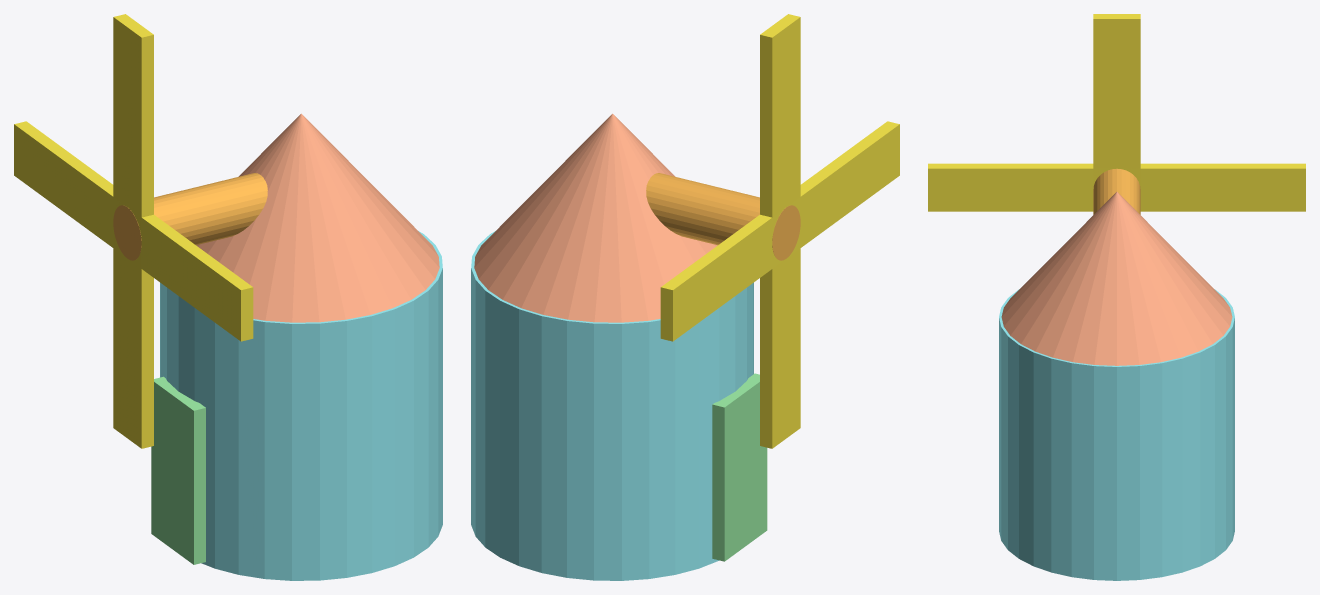
File: windmill.gltf
3 views of the same model, side by side, from view 1: azimuth 30°, elevation 25°; view 2: azimuth 150°, elevation 25°; view 3: azimuth 270°, elevation 25° (orthographic). The views are drawn at different scales.
Visible parts, largest first — view 1: 柱体, 锥体, 立方体.001, 立方体.002, 立方体, 柱体.001; view 2: 柱体, 锥体, 立方体.001, 立方体.002, 立方体, 柱体.001; view 3: 柱体, 锥体, 立方体.002, 立方体.001, 柱体.001.
Boxes of the visible parts, bbox=[...] form: 柱体: bbox=[160, 231, 442, 580]; 锥体: bbox=[196, 113, 439, 322]; 立方体.001: bbox=[113, 14, 153, 448]; 立方体.002: bbox=[14, 121, 253, 341]; 立方体: bbox=[151, 376, 205, 564]; 柱体.001: bbox=[113, 173, 267, 260]; 柱体: bbox=[471, 231, 753, 580]; 锥体: bbox=[474, 113, 717, 322]; 立方体.001: bbox=[760, 14, 800, 448]; 立方体.002: bbox=[660, 121, 899, 341]; 立方体: bbox=[712, 373, 767, 561]; 柱体.001: bbox=[646, 173, 800, 260]; 柱体: bbox=[999, 289, 1234, 580]; 锥体: bbox=[1001, 192, 1232, 365]; 立方体.002: bbox=[928, 163, 1305, 211]; 立方体.001: bbox=[1093, 14, 1140, 188]; 柱体.001: bbox=[1093, 168, 1140, 214].
Size of the model in its own units: 2.42 by 4.17 by 3.2.
